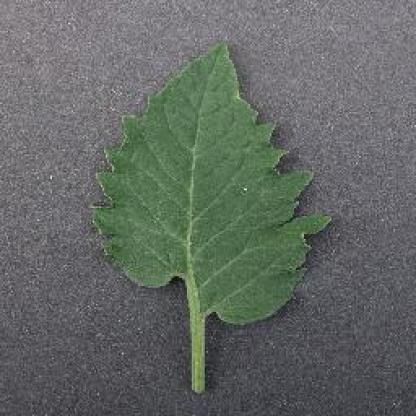good leaf: (128, 69, 330, 378)
